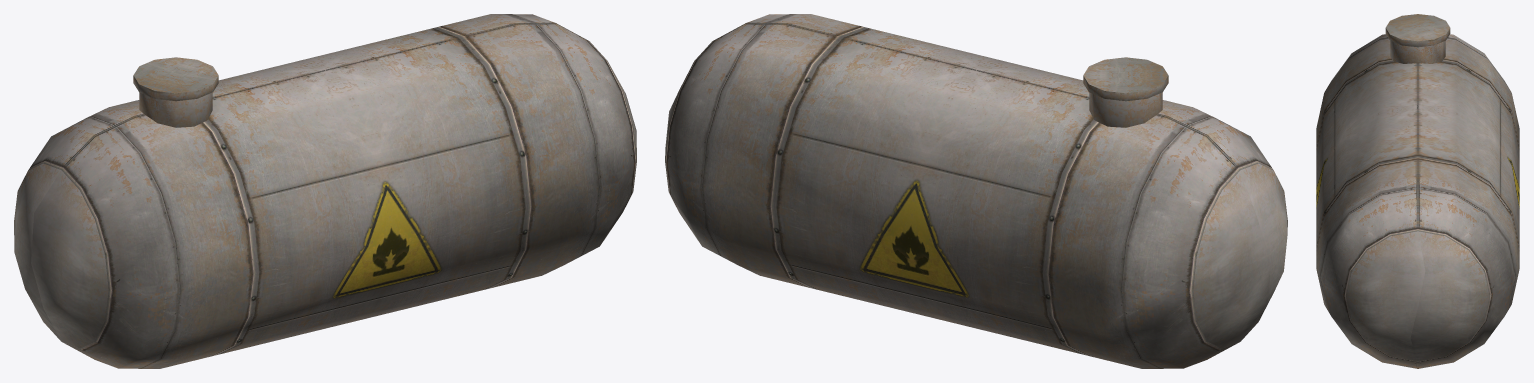
Rendered from Prop_Yg03.glb.
3 views of the same model, side by side, from view 1: azimuth 30°, elevation 25°; view 2: azimuth 150°, elevation 25°; view 3: azimuth 270°, elevation 25° (orthographic). The views are drawn at different scales.
Visible parts, largest first — view 1: xiutz_yg_03; view 2: xiutz_yg_03; view 3: xiutz_yg_03.
Part boxes in pixels (bbox=[...]): xiutz_yg_03: bbox=[14, 14, 636, 368]; xiutz_yg_03: bbox=[665, 14, 1287, 368]; xiutz_yg_03: bbox=[1316, 14, 1519, 368].
Size of the model in its own units: 10.22 by 4.55 by 4.03.
1 material, 1 textured.
